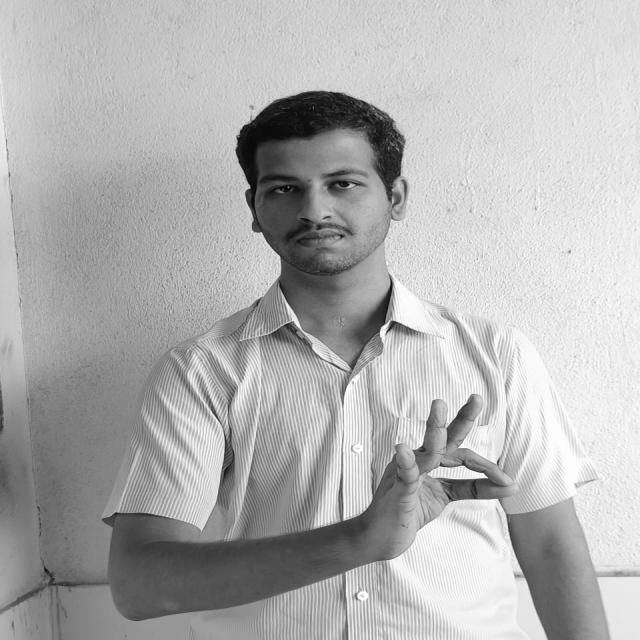Superb: (379, 392, 518, 554)
